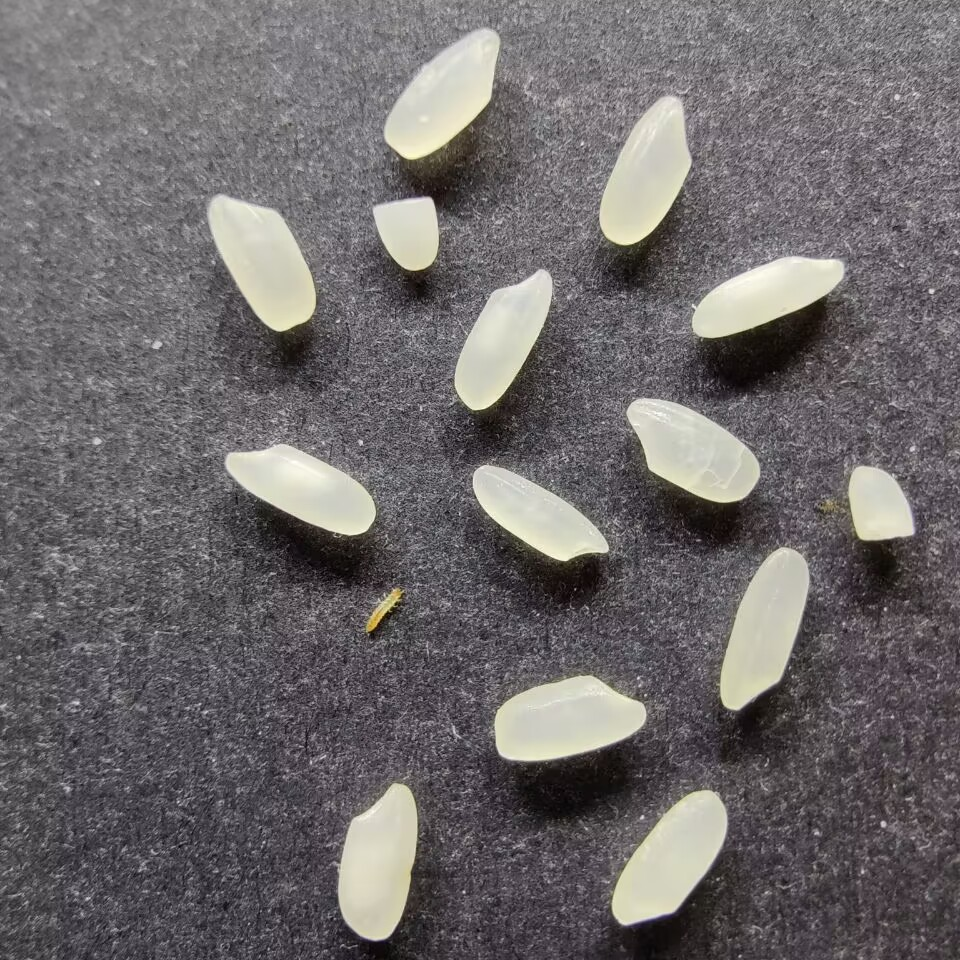broken: (371, 196, 440, 272), (847, 465, 914, 541)
others: (361, 584, 402, 636)
rice: (611, 789, 729, 928), (205, 193, 316, 332), (383, 27, 499, 160), (718, 547, 809, 710), (452, 268, 553, 410), (626, 397, 761, 503), (597, 96, 692, 246), (224, 443, 376, 536), (471, 463, 610, 562), (493, 673, 646, 761), (691, 254, 845, 338), (336, 781, 417, 940)
